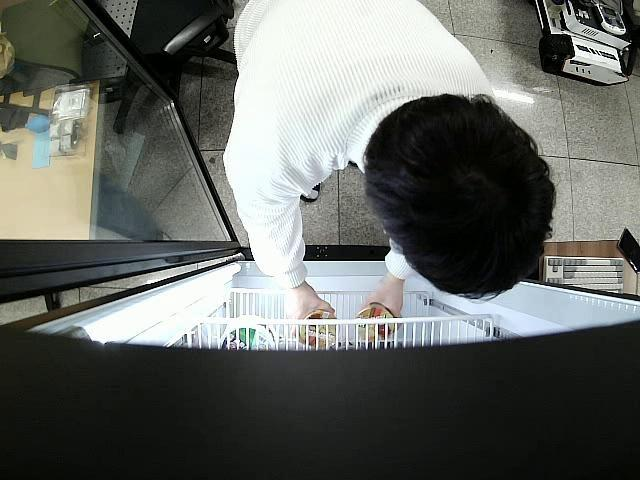04_chapagetti_S: (354, 306, 399, 345), (298, 310, 341, 350)
